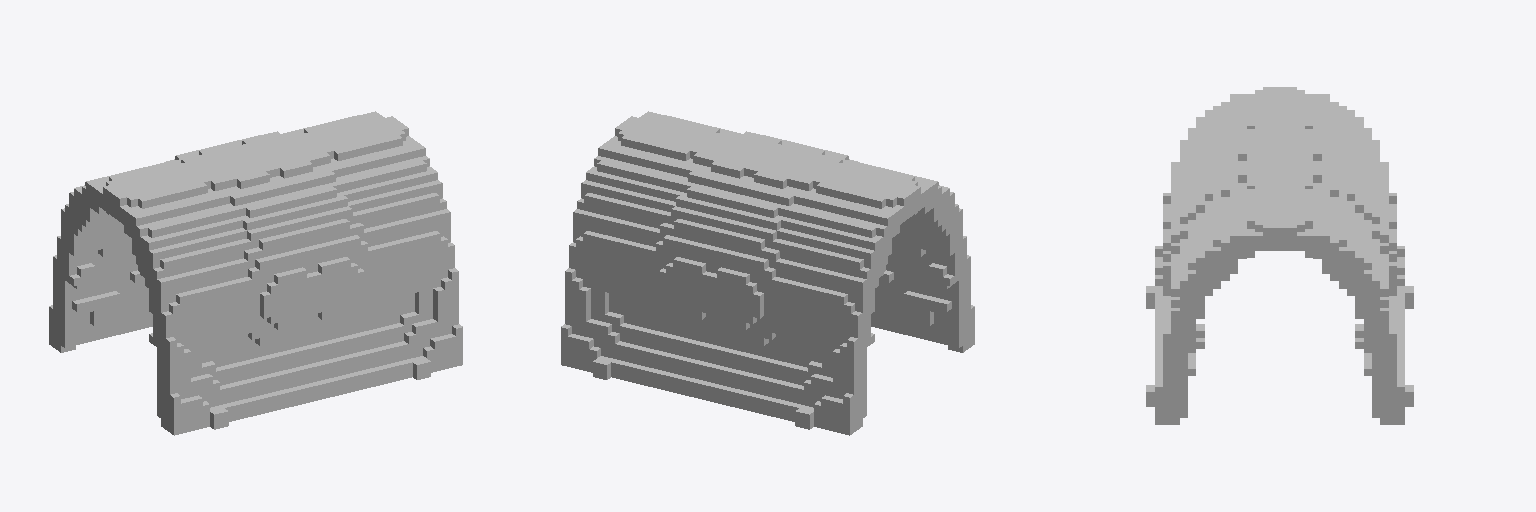
The model's file is tunnel3.obj.
3 renders of one model, left to right at view 1: azimuth 30°, elevation 25°; view 2: azimuth 150°, elevation 25°; view 3: azimuth 270°, elevation 25°, orthographic.
Visible parts, largest first — view 1: object 1; view 2: object 1; view 3: object 1.
Boxes of the visible parts, <box> form: object 1: <box>49,111,462,435</box>; object 1: <box>561,111,974,435</box>; object 1: <box>1146,87,1413,424</box>.
Size of the model in its own units: 4 by 2.6 by 3.2.